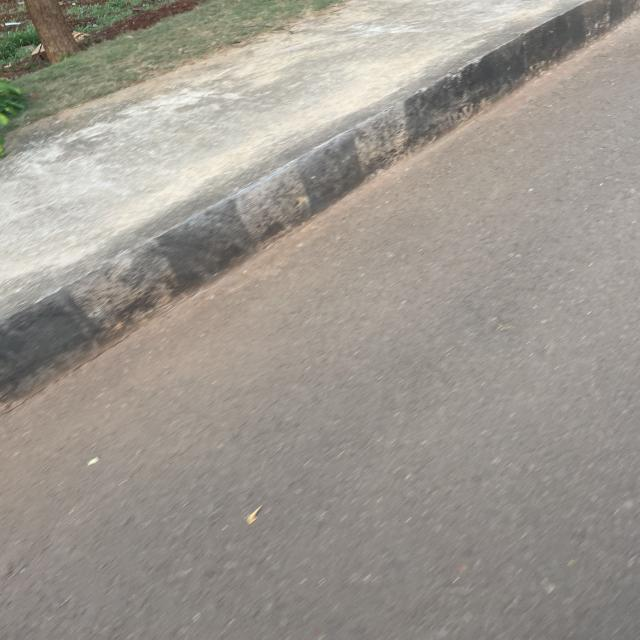D43: (39, 192, 316, 366)
